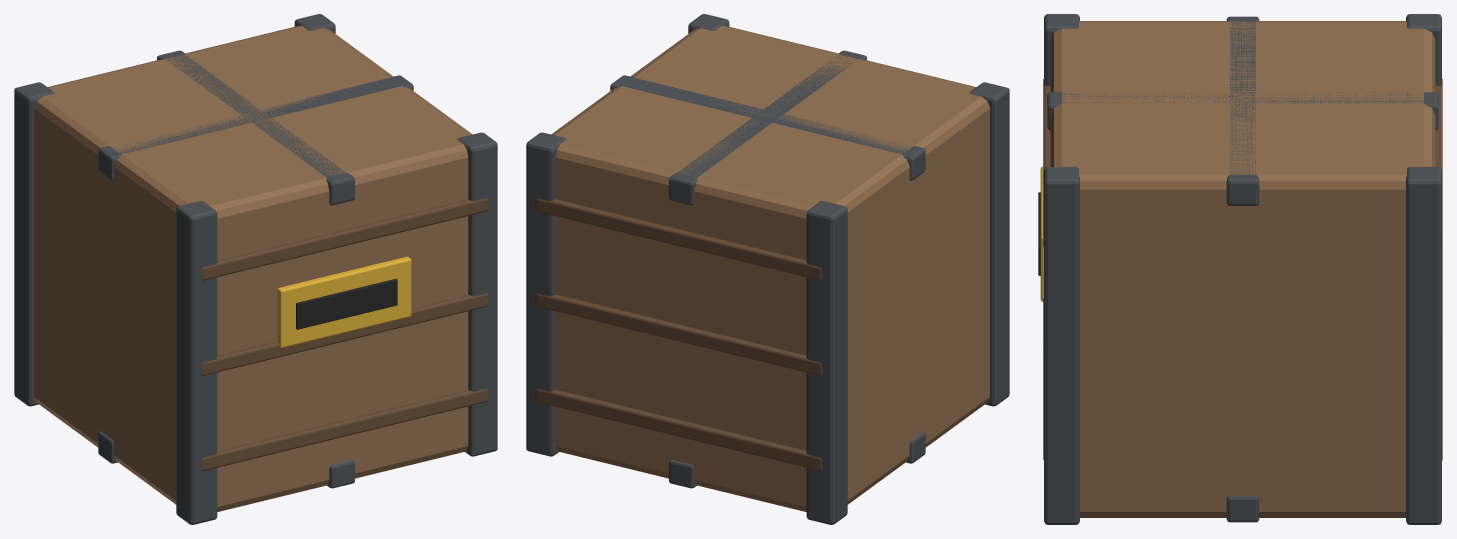
File: crate.glb
3 views of the same model, side by side, from view 1: azimuth 30°, elevation 25°; view 2: azimuth 150°, elevation 25°; view 3: azimuth 270°, elevation 25° (orthographic). The views are drawn at different scales.
Parts seen in each view (by area): view 1: crate; view 2: crate; view 3: crate.
Part boxes in pixels (bbox=[...]): crate: bbox=[14, 14, 497, 524]; crate: bbox=[526, 14, 1009, 524]; crate: bbox=[1038, 14, 1442, 524].
Bounding box in the file's own units: 1.22 × 1.17 × 1.24.
